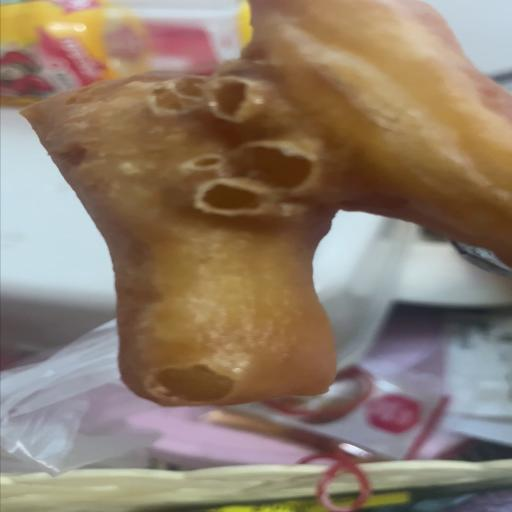street_burnt_defect: (20, 0, 512, 406)
